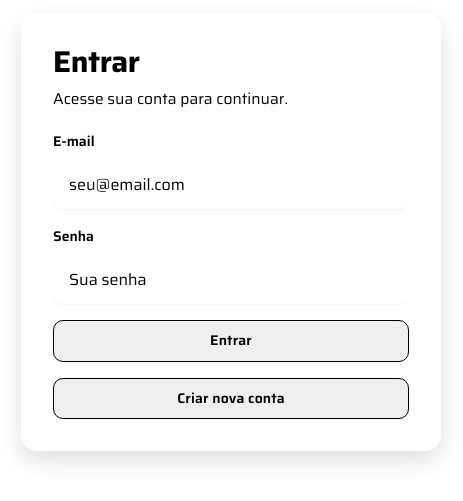
Test: Login page integration › mostra erro amigavel para credenciais invalidas
Type "user@test.com" into the field labelled "E-mail" at (231, 185), box [53,160,409,209]
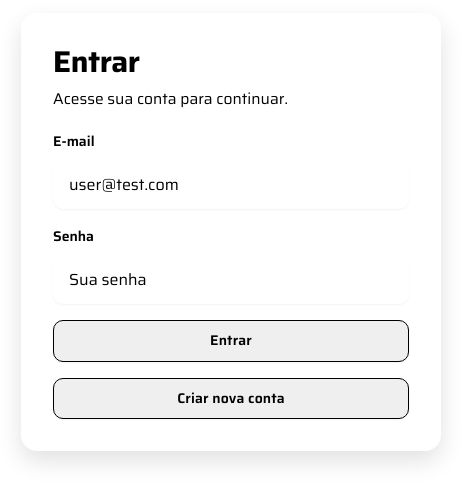
Type "123456" into the password field labelled "Senha" at (231, 280), box [53,255,409,304]
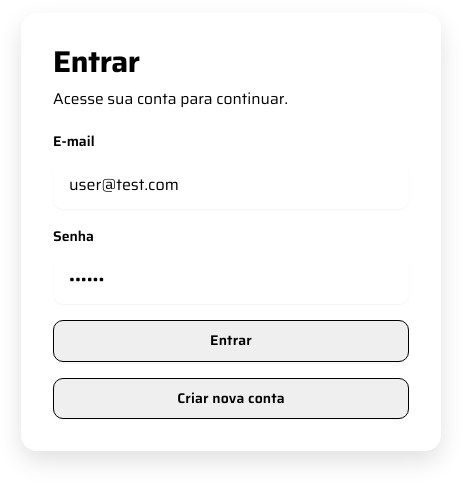
Click the button "Entrar" at (231, 341), box [53,320,409,362]
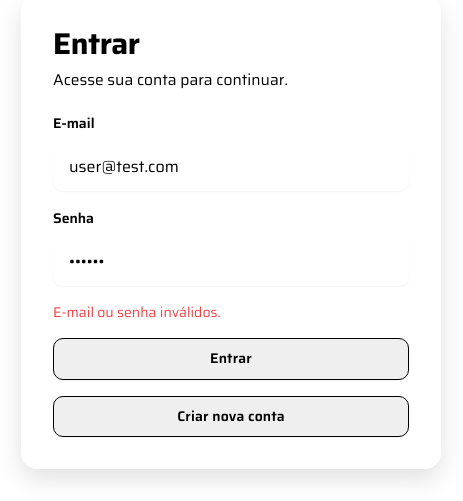
Result: the text "E-mail ou senha inválidos." is shown at [53,301,221,323]
